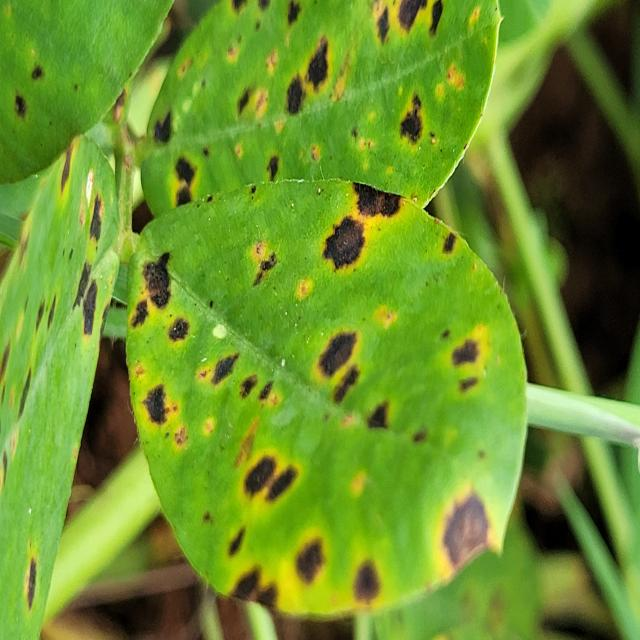Ground nut_tikka leaf spot: (128, 177, 527, 617), (138, 0, 500, 240)
